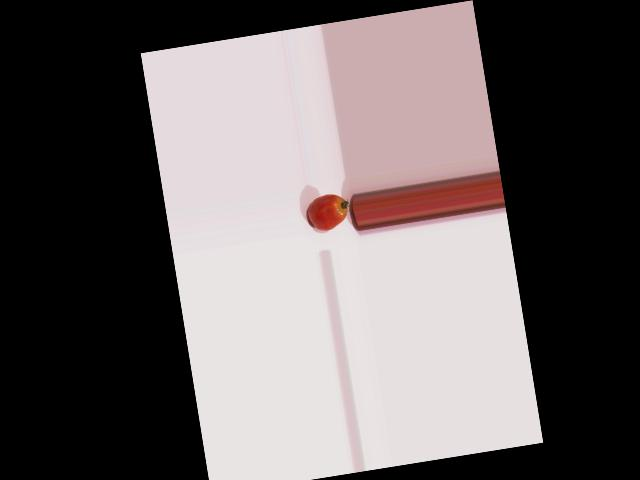tomato: (306, 192, 350, 233)
